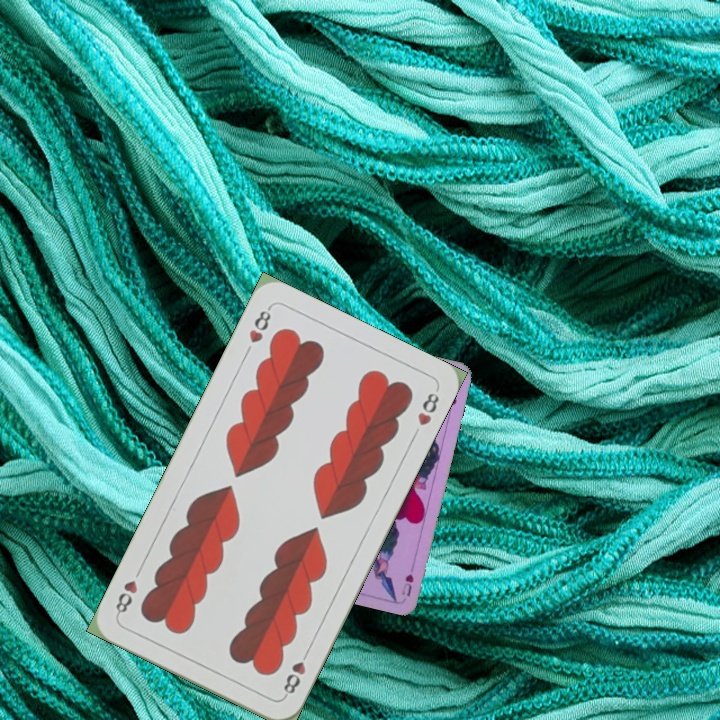H8: (279, 645, 312, 700), (244, 302, 274, 346)
HU: (398, 560, 417, 599)
